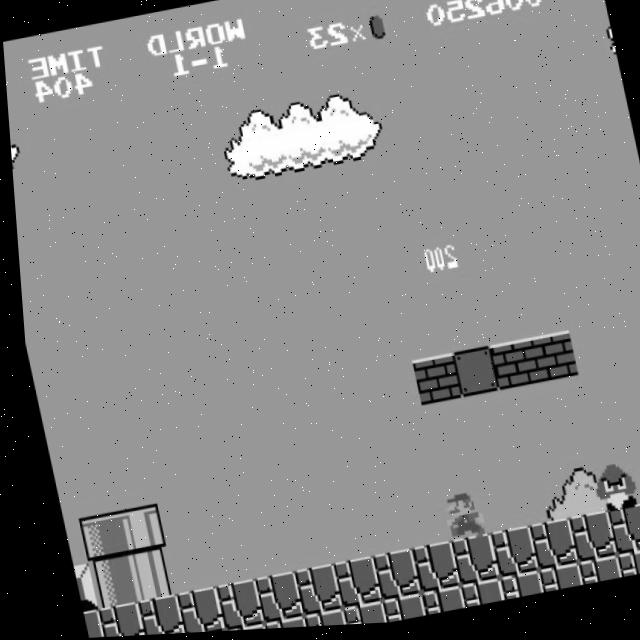1- brick_block: (523, 336, 573, 389), (484, 343, 534, 396), (405, 357, 455, 410)
11- little_mario: (430, 492, 482, 549)
14- pipe: (118, 550, 168, 603), (79, 557, 129, 610)
15- pipe_head: (109, 505, 159, 558), (70, 512, 119, 565)
17- undestructible_block: (520, 523, 570, 576), (481, 530, 531, 583), (441, 537, 491, 590), (363, 552, 413, 605), (323, 559, 373, 612), (284, 566, 334, 619), (245, 573, 295, 626), (205, 580, 255, 633), (559, 516, 609, 568), (402, 545, 452, 597), (166, 588, 215, 635), (599, 508, 640, 561), (127, 594, 176, 636), (87, 602, 136, 638), (568, 561, 614, 591), (450, 582, 496, 612), (529, 568, 574, 598), (490, 575, 535, 605), (411, 589, 456, 619), (372, 597, 417, 626), (332, 604, 377, 628), (607, 554, 640, 584), (293, 611, 338, 630), (74, 609, 96, 638), (254, 618, 298, 631), (214, 625, 258, 633), (638, 502, 640, 554)
3- empty_block: (444, 350, 494, 403)
8- goomba: (582, 464, 635, 521)
9- hard_block: (65, 564, 89, 613)
